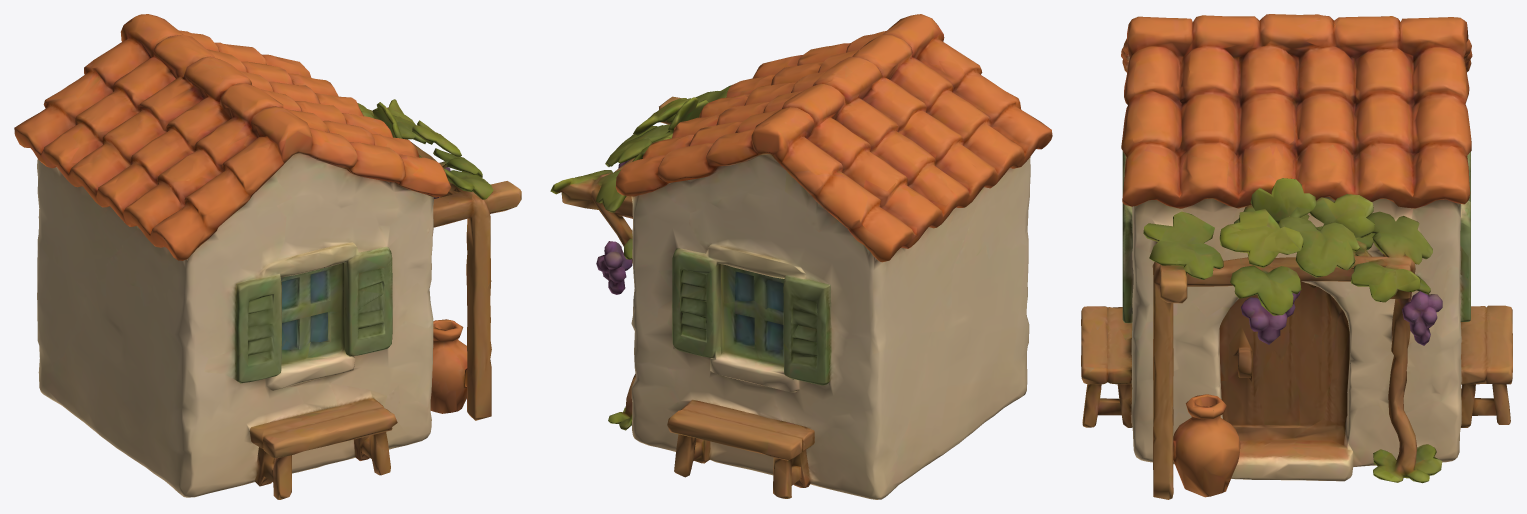
Rendered from house_e.glb.
The picture shows the model from 3 angles, left to right: view 1: azimuth 30°, elevation 25°; view 2: azimuth 150°, elevation 25°; view 3: azimuth 270°, elevation 25°; orthographic projection. The views are drawn at different scales.
Parts seen in each view (by area): view 1: tripo_node_d6ecaeb1-7ac8-4504-9e65-ebeca4e1e3ba; view 2: tripo_node_d6ecaeb1-7ac8-4504-9e65-ebeca4e1e3ba; view 3: tripo_node_d6ecaeb1-7ac8-4504-9e65-ebeca4e1e3ba.
Boxes of the visible parts, x1,y1,x2,y2 form: tripo_node_d6ecaeb1-7ac8-4504-9e65-ebeca4e1e3ba: (14,14,521,499); tripo_node_d6ecaeb1-7ac8-4504-9e65-ebeca4e1e3ba: (550,14,1052,499); tripo_node_d6ecaeb1-7ac8-4504-9e65-ebeca4e1e3ba: (1081,14,1512,499).
Bounding box in the file's own units: 1 × 0.9107 × 0.9432.
Materials: 1 (1 with a texture image).
